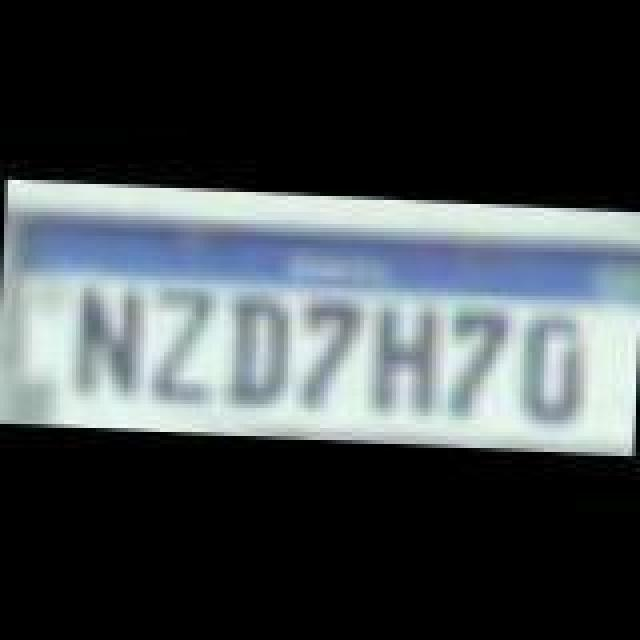7: (294, 294, 362, 418), (444, 312, 508, 424)
D: (514, 308, 590, 428), (228, 292, 292, 412)
H: (370, 298, 446, 422)
N: (70, 284, 138, 404)
Z: (150, 284, 218, 404)
